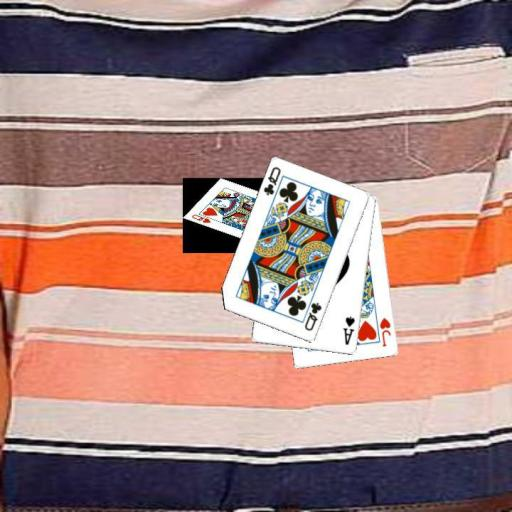AS: (340, 314, 356, 347)
JH: (377, 315, 392, 348)
QC: (302, 299, 324, 333), (261, 164, 283, 197)
